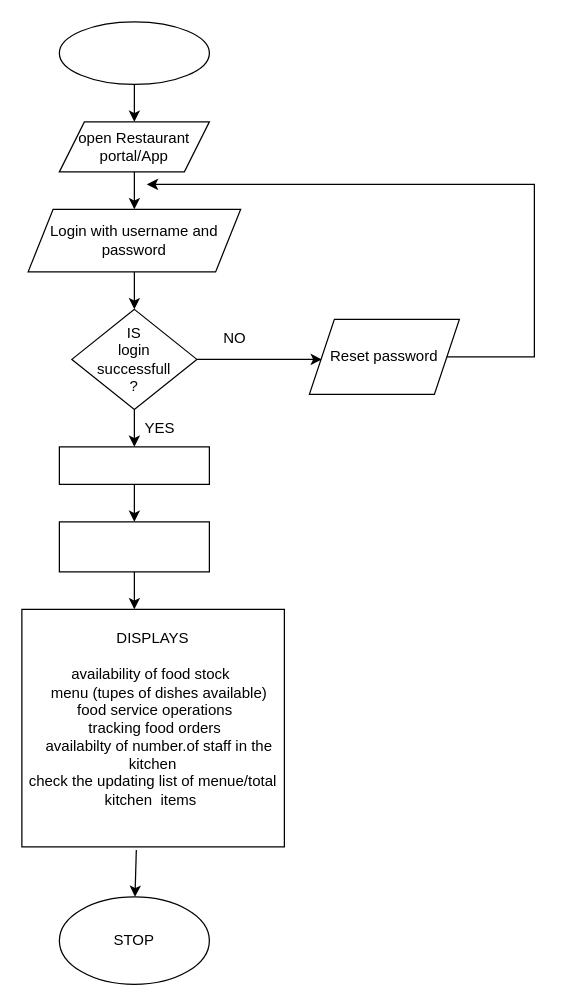
Image size: 566x1006. Some labels were removed from this diagram. Here are the shapes that lost their labels. From the top down, the centre of each, then its label:
the point at 133,52: START
the point at 133,465: Displays "Dashboard"
the point at 133,546: click on "Kitchen management"
